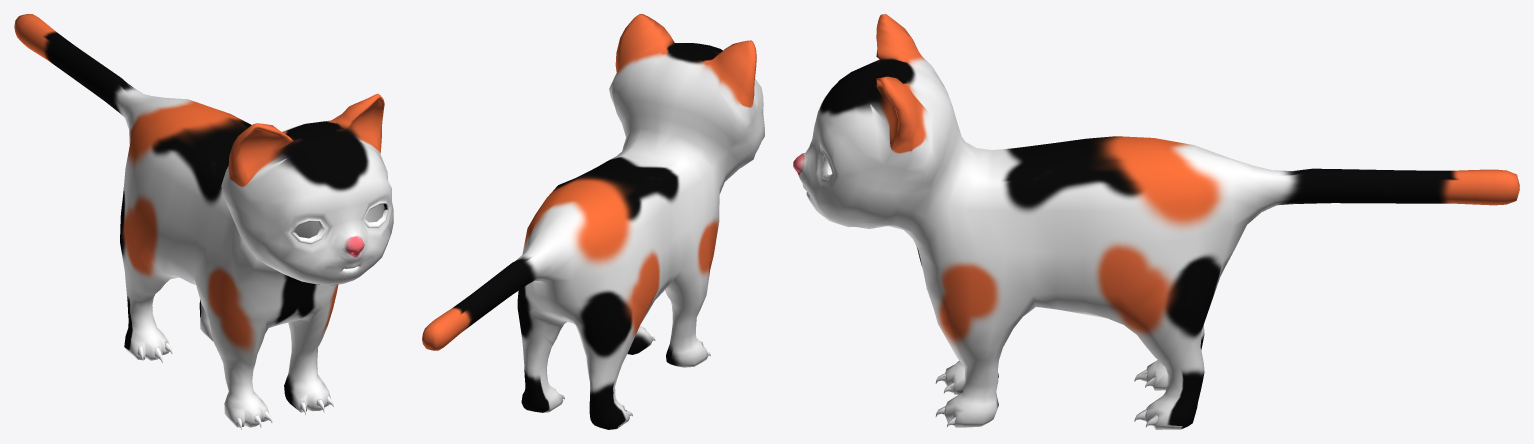
Rendered from Purrfect Match Calico.glb.
3 renders of one model, left to right at view 1: azimuth 30°, elevation 25°; view 2: azimuth 150°, elevation 25°; view 3: azimuth 270°, elevation 25°, orthographic. The views are drawn at different scales.
Parts seen in each view (by area): view 1: Cat; view 2: Cat; view 3: Cat.
Part boxes in pixels (x1=…): Cat: x1=14, y1=14, x2=393, y2=429; Cat: x1=422, y1=14, x2=764, y2=429; Cat: x1=793, y1=14, x2=1519, y2=429.
Size of the model in its own units: 1.35 by 2.82 by 5.19.
1 material, 1 textured.
